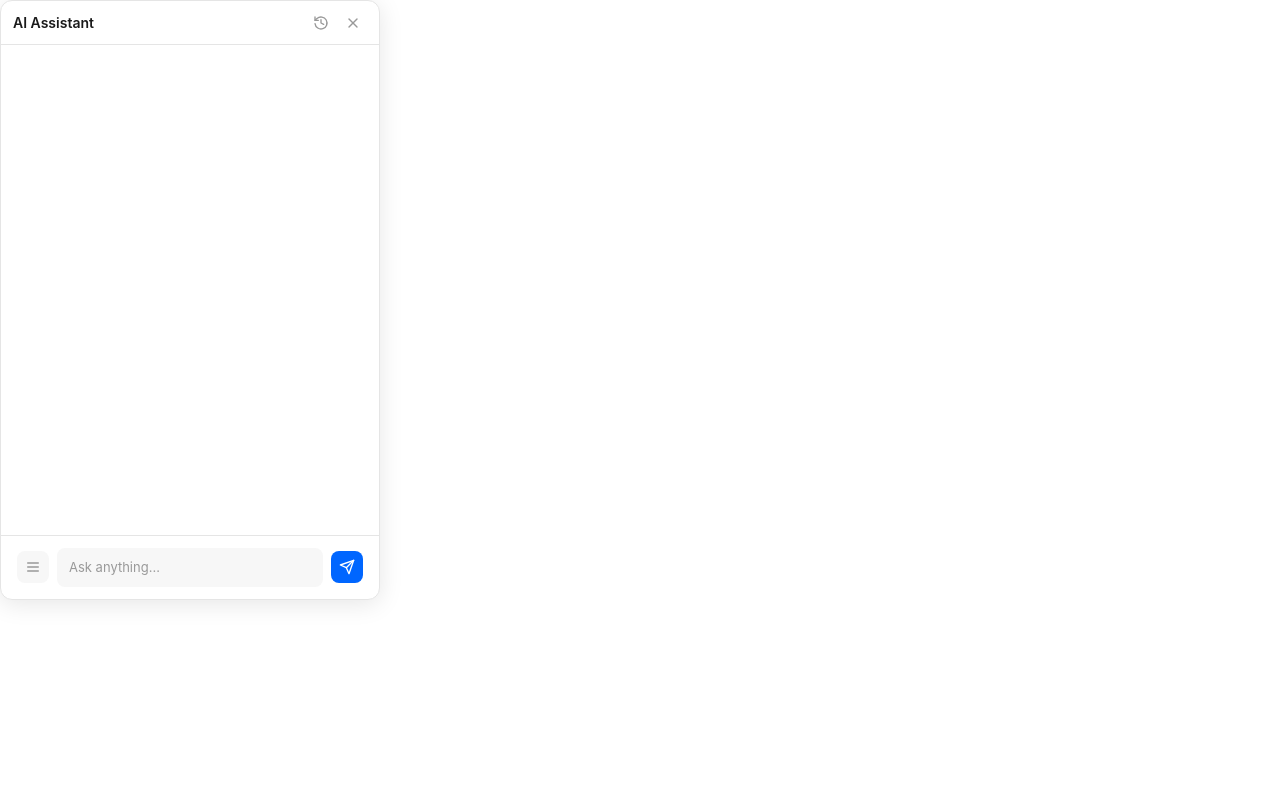
Test: AIChatPanel › tool menu › shows tool menu items
Click the button with class "tool-btn". click: (33, 567)
box: 17,551 -> 49,583
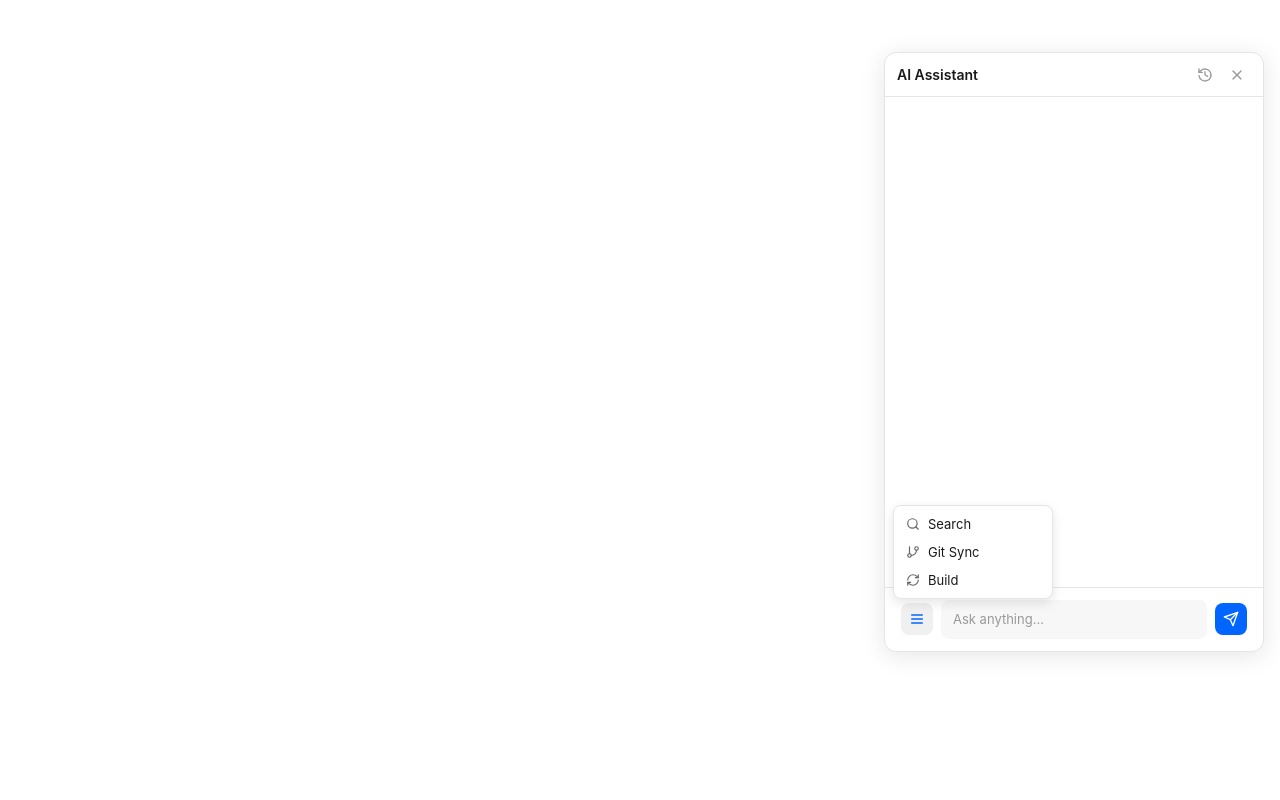
expect the number of buttons with class "tool-menu-item" is 3: met, box 898,510 -> 1048,538; 898,538 -> 1048,566; 898,566 -> 1048,594
expect the button with class "tool-menu-item" reads "Search": met, box 898,510 -> 1048,538
expect the button with class "tool-menu-item" reads "Git Sync": met, box 898,538 -> 1048,566
